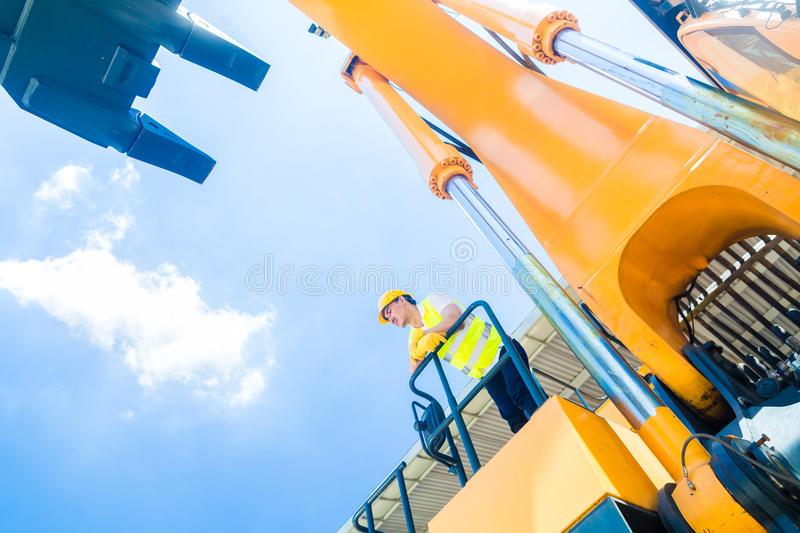helmet: (370, 286, 422, 332)
